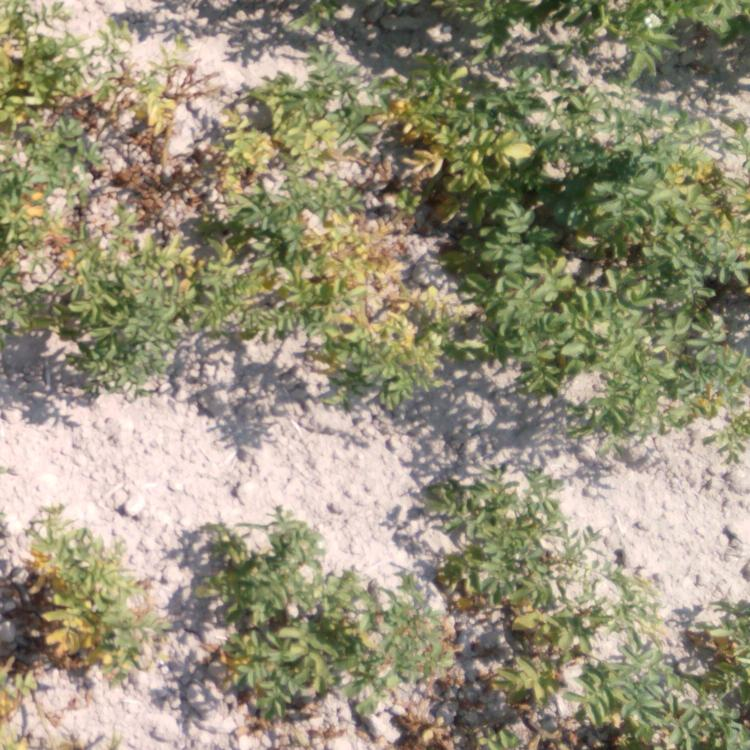healthy: (589, 302, 745, 444), (453, 229, 573, 382), (543, 89, 621, 229), (369, 1, 548, 46), (568, 1, 740, 40)
stressed: (86, 216, 288, 383), (216, 523, 386, 713), (294, 216, 439, 394), (21, 506, 145, 688), (444, 461, 574, 627), (121, 67, 269, 206), (403, 627, 568, 750), (631, 121, 745, 294), (407, 60, 529, 208), (274, 70, 396, 205), (1, 8, 95, 162), (586, 620, 679, 750), (1, 179, 70, 338), (693, 610, 745, 748)
